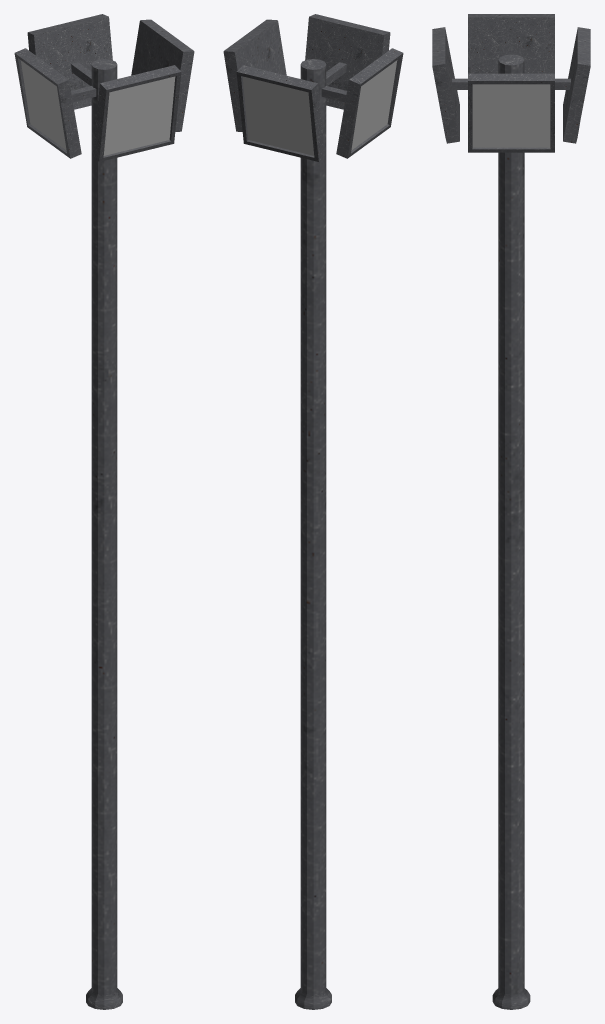
File: outdoor_light.fbx
The picture shows the model from 3 angles, left to right: view 1: azimuth 30°, elevation 25°; view 2: azimuth 150°, elevation 25°; view 3: azimuth 270°, elevation 25°; orthographic projection.
Parts seen in each view (by area): view 1: outdoor_light; view 2: outdoor_light; view 3: outdoor_light.
Boxes of the visible parts, left/top/right/bottom form: outdoor_light: left=14, top=14, right=194, bottom=1009; outdoor_light: left=223, top=14, right=403, bottom=1009; outdoor_light: left=432, top=14, right=590, bottom=1009.
Bounding box in the file's own units: 182 × 1212 × 182.
1 material, 1 textured.
